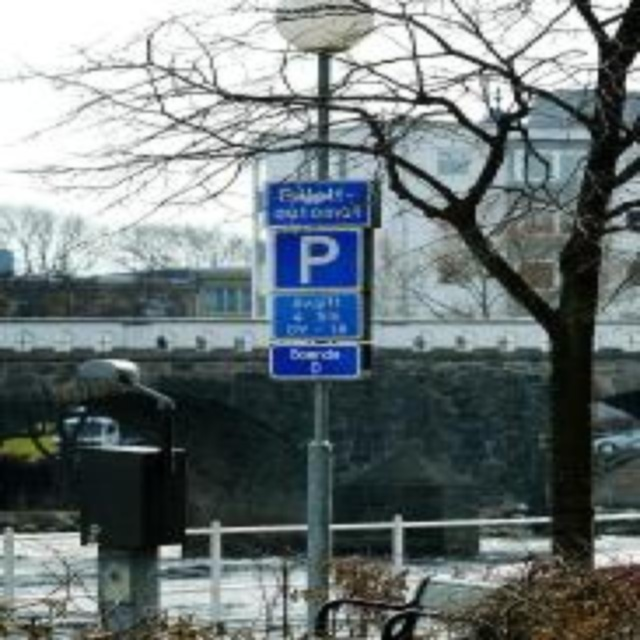P-skylt: (267, 225, 365, 291)
